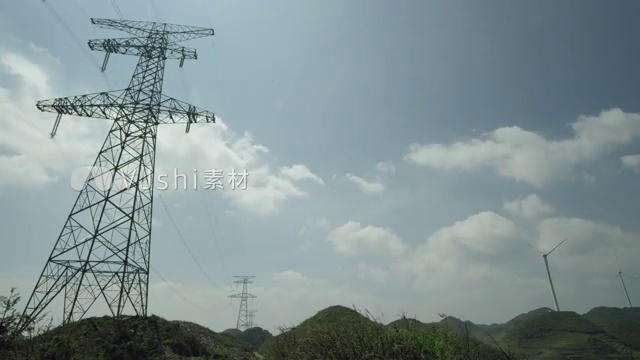tower_body: (18, 6, 220, 325), (230, 273, 259, 328)
tower_foot: (19, 267, 152, 322)
tower_head: (77, 10, 231, 68)
